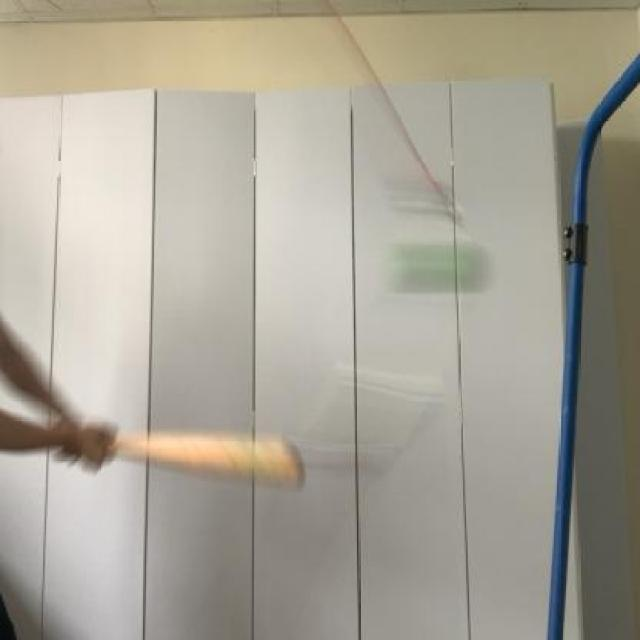baseball: (376, 228, 493, 304)
